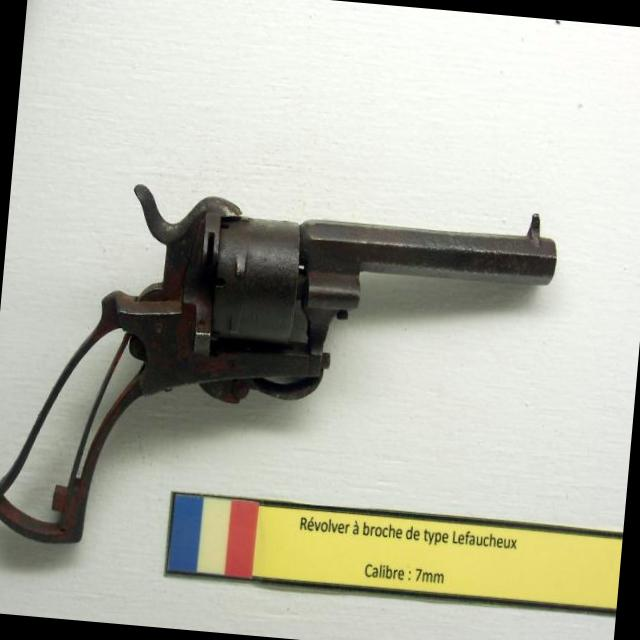Gun: (0, 185, 556, 542)
